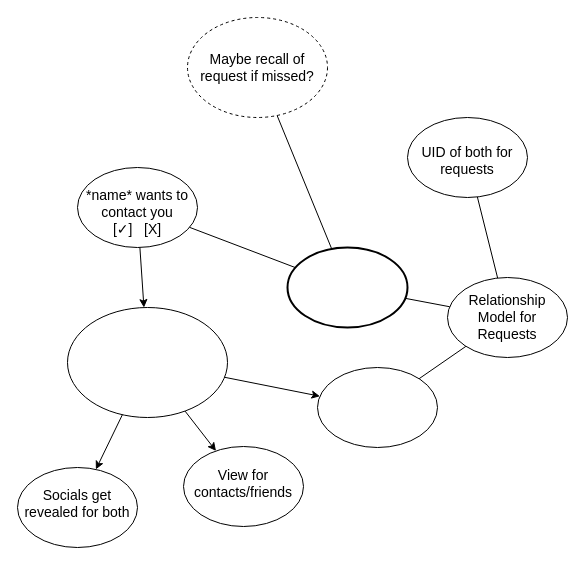
The diagram is 585 pixels wide and 565 high, and some of its shapes have lost their labels. The shapes that lost their labels are listed below. From the top down, each one's box as (x1, y1, x2, y2) in pixels, then its label:
(286, 246, 408, 328): Notifications
(66, 306, 228, 418): Ana -> Bob Bob gets notification Bob [✓] Ana Ana gets notification
(316, 366, 438, 448): Request status saved in DB
